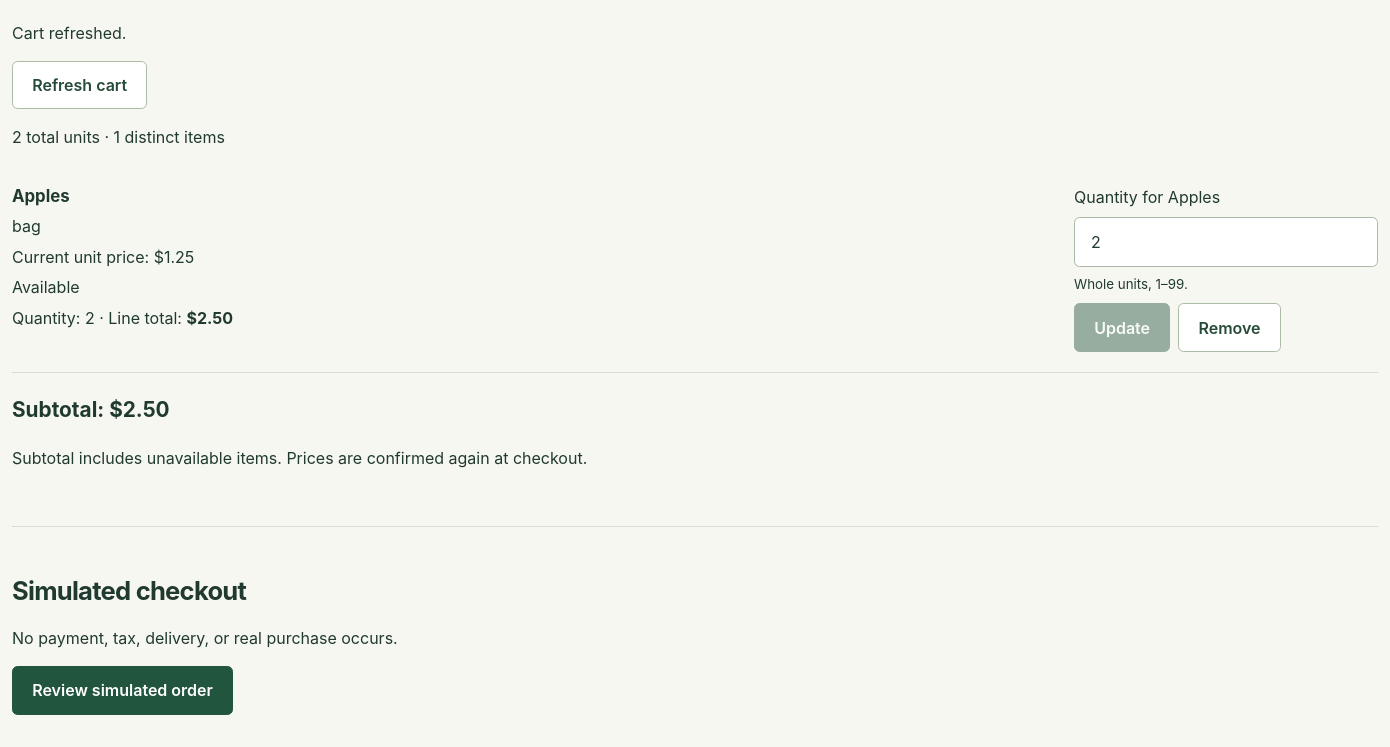
Test: simulated checkout › invalidates review after a failed cart refresh
This screenshot has width=1390, height=747.
(page scrolled)
Click the button "Review simulated order".
click(123, 690)  # box [12,666,233,714]
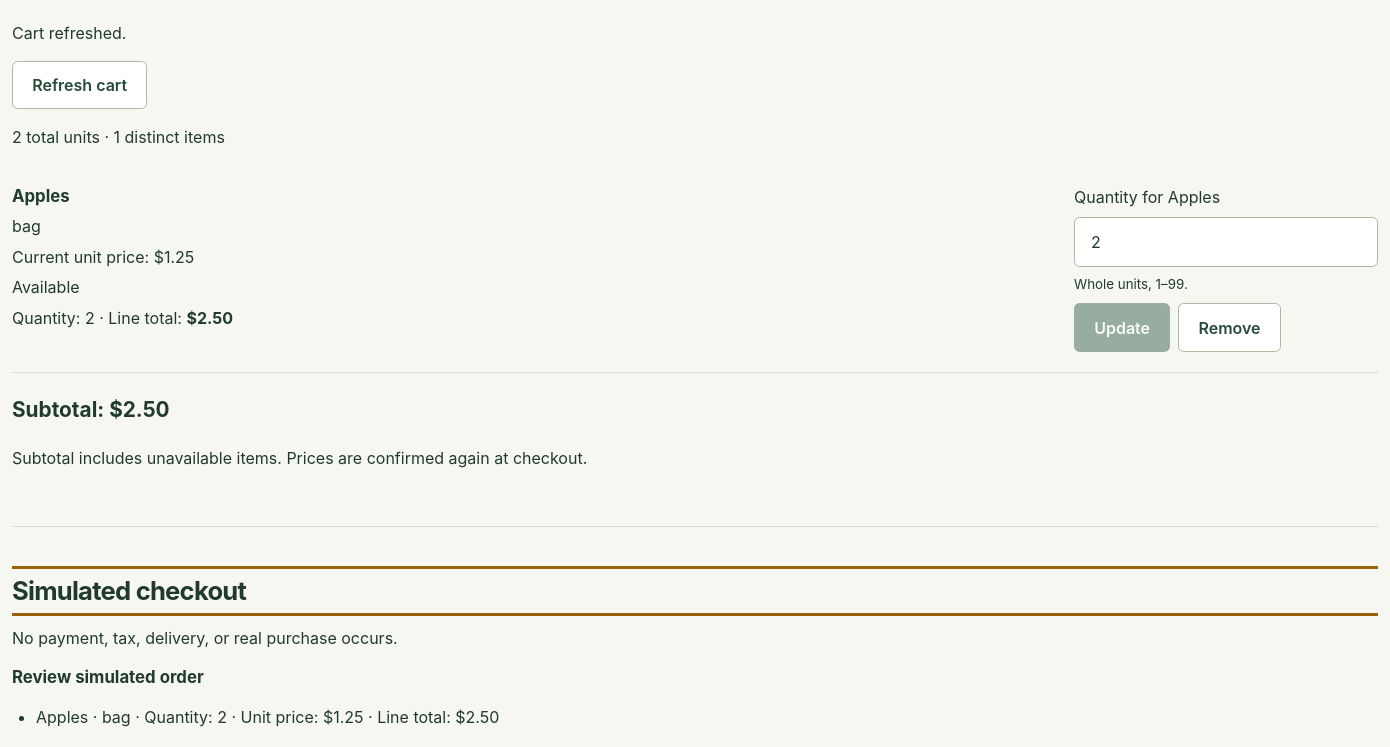
Click the button "Refresh cart".
click(80, 85)  # box [12,61,147,109]
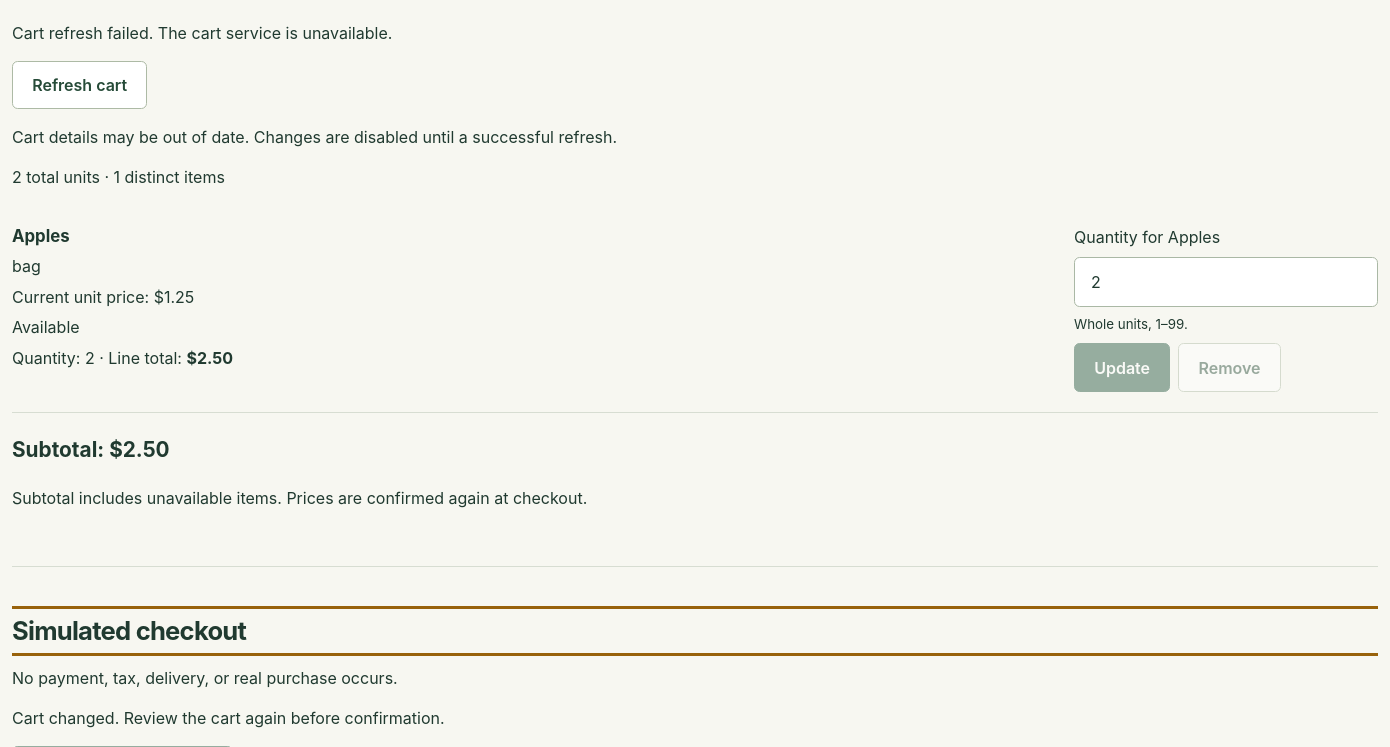
Check: the text "Cart refresh failed. The cart service is unavailable." is shown, box [12,23,392,43]
